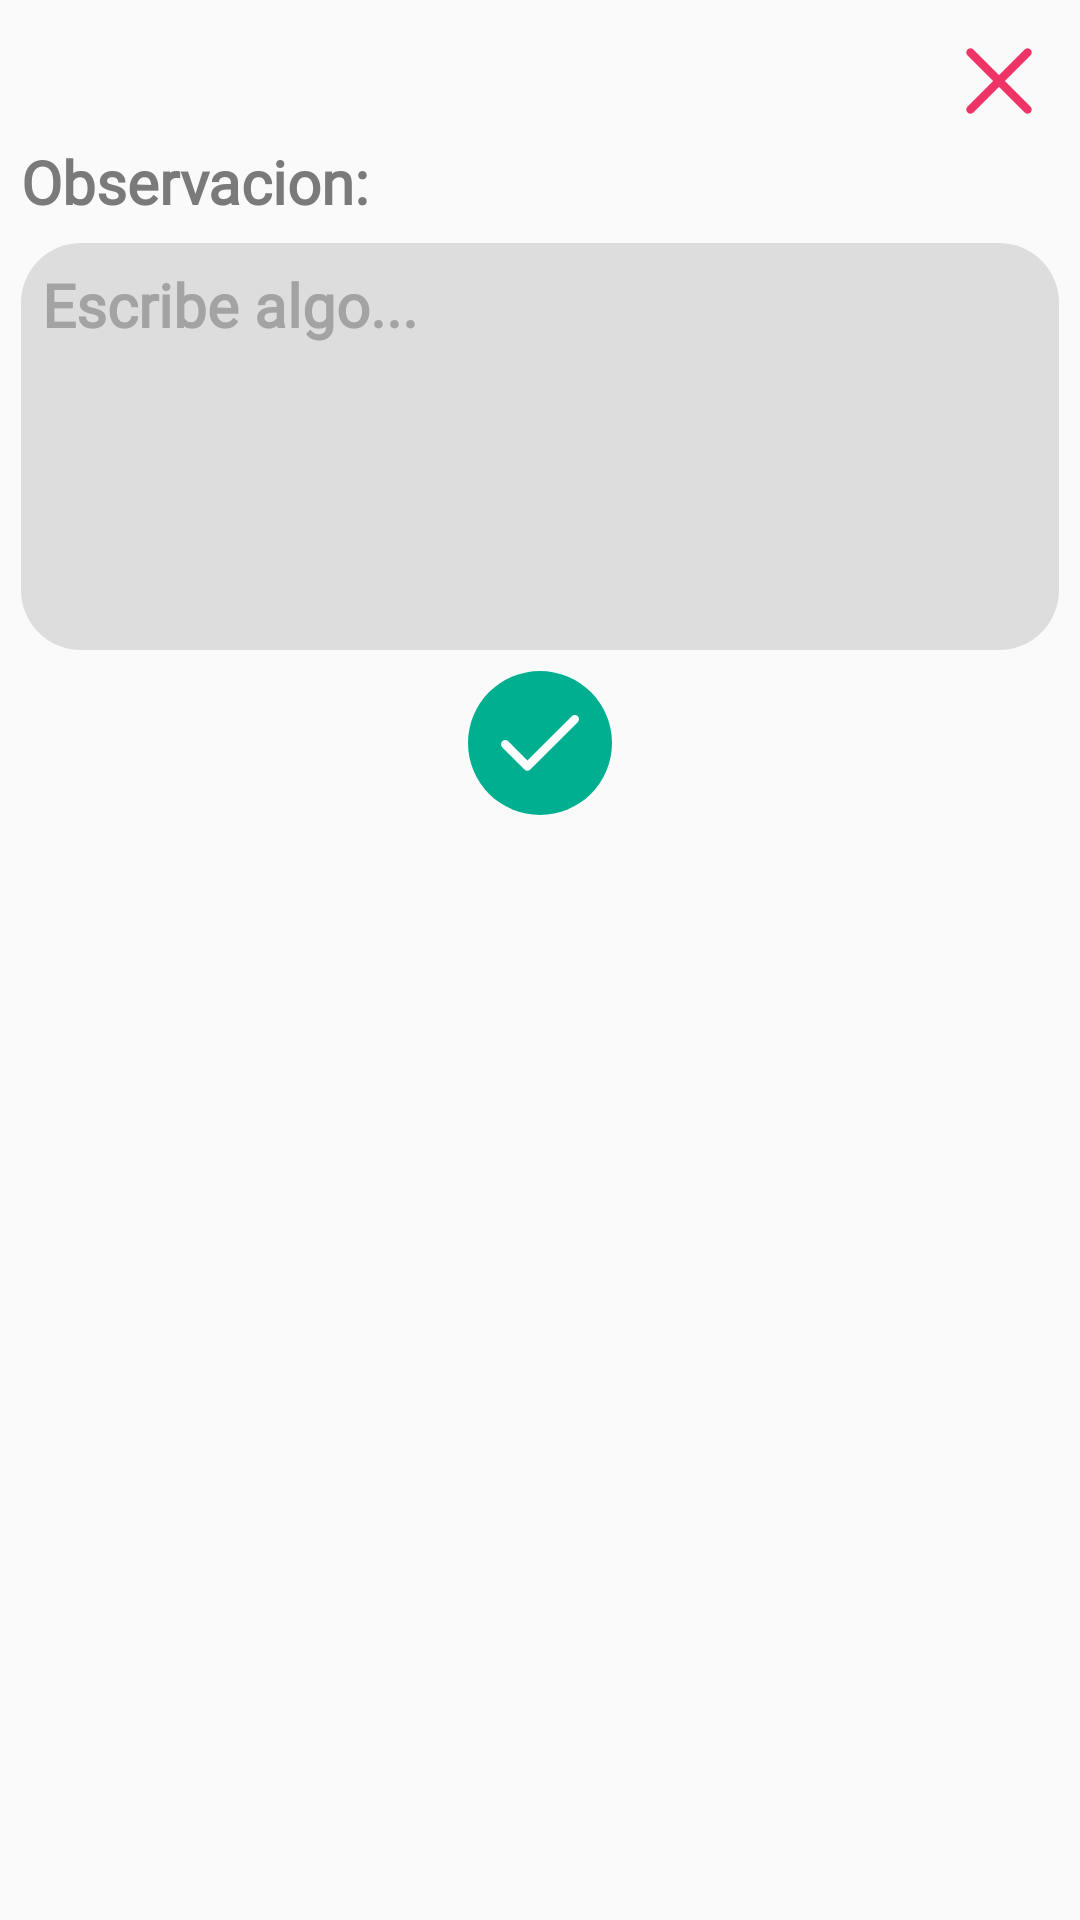

Screen size 1080x1920. Icon name, then its center in pixels as [x,y]:
close: [999,81]
done: [540,743]
